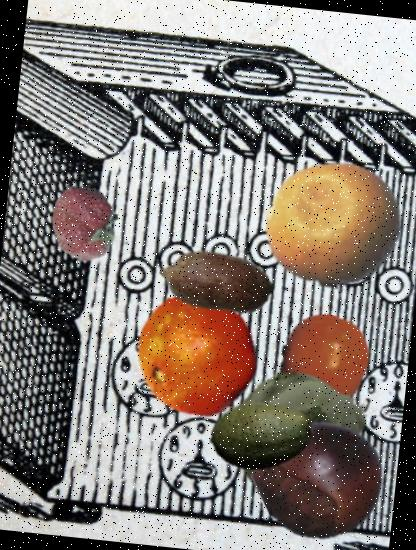Avocado: (203, 377, 321, 495)
Chestnut: (252, 410, 390, 548)
Clementine: (125, 284, 269, 428), (270, 310, 378, 417)
Kohlrabi: (223, 358, 376, 511)
Kumquats: (258, 150, 408, 298)
Nut: (152, 218, 279, 346)
Strawberry: (42, 180, 128, 267)
